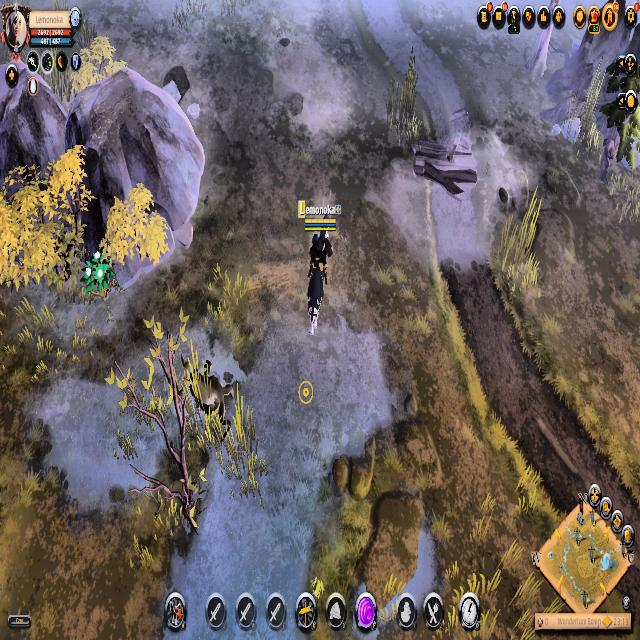fiber tier 3: (81, 245, 116, 302)
